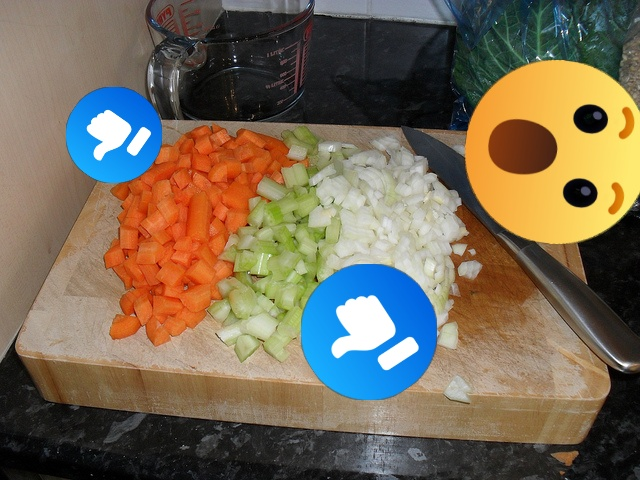like: (301, 264, 437, 400), (66, 87, 162, 183)
wow: (465, 60, 640, 244)
